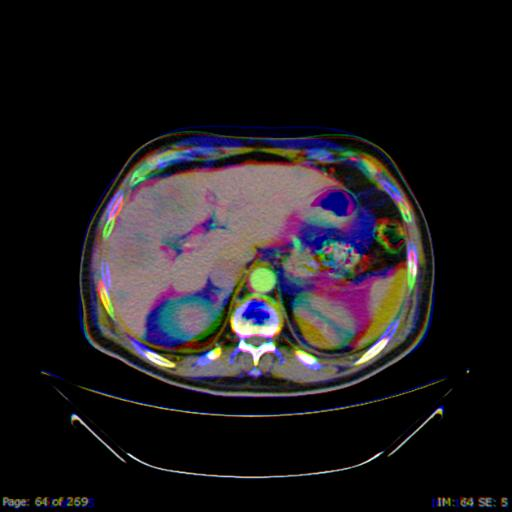Tumor: (141, 180, 197, 234), (115, 219, 161, 265)
